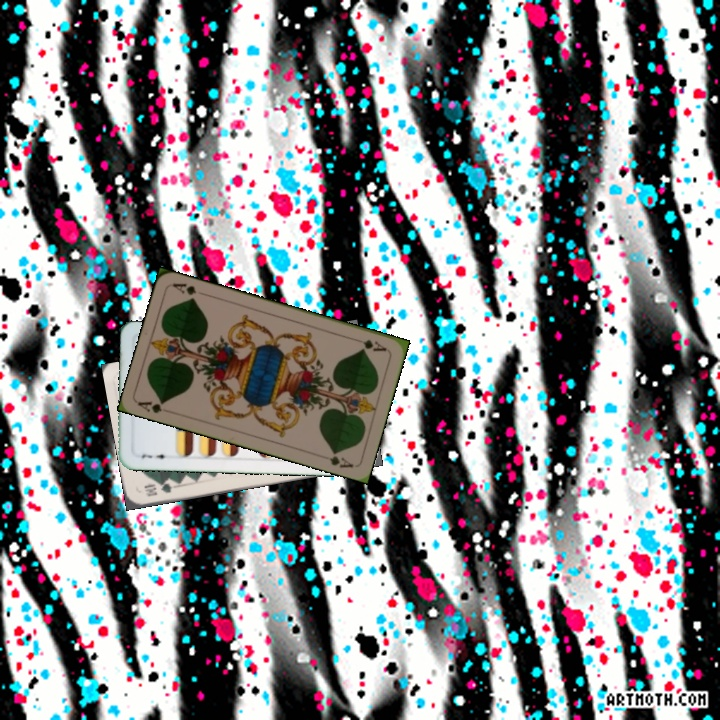E7: (137, 450, 172, 461)
G10: (140, 479, 174, 499)
GA: (350, 335, 389, 354), (135, 397, 167, 416)
